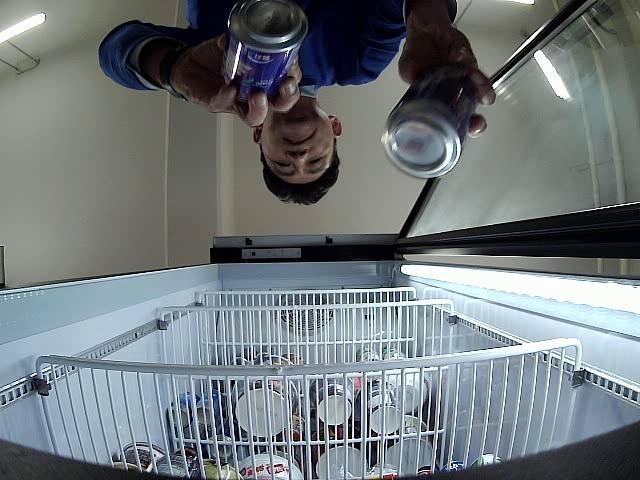14_welchsGrape: (381, 60, 478, 178), (222, 0, 308, 104)
